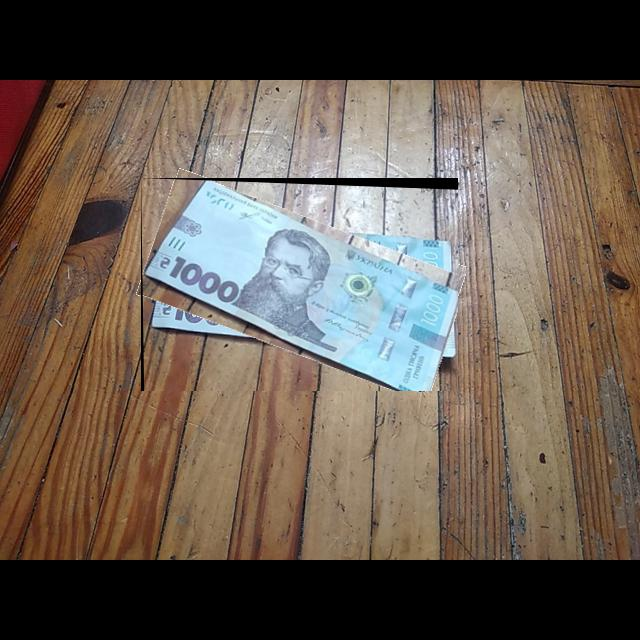1000uah: (143, 180, 459, 392)
